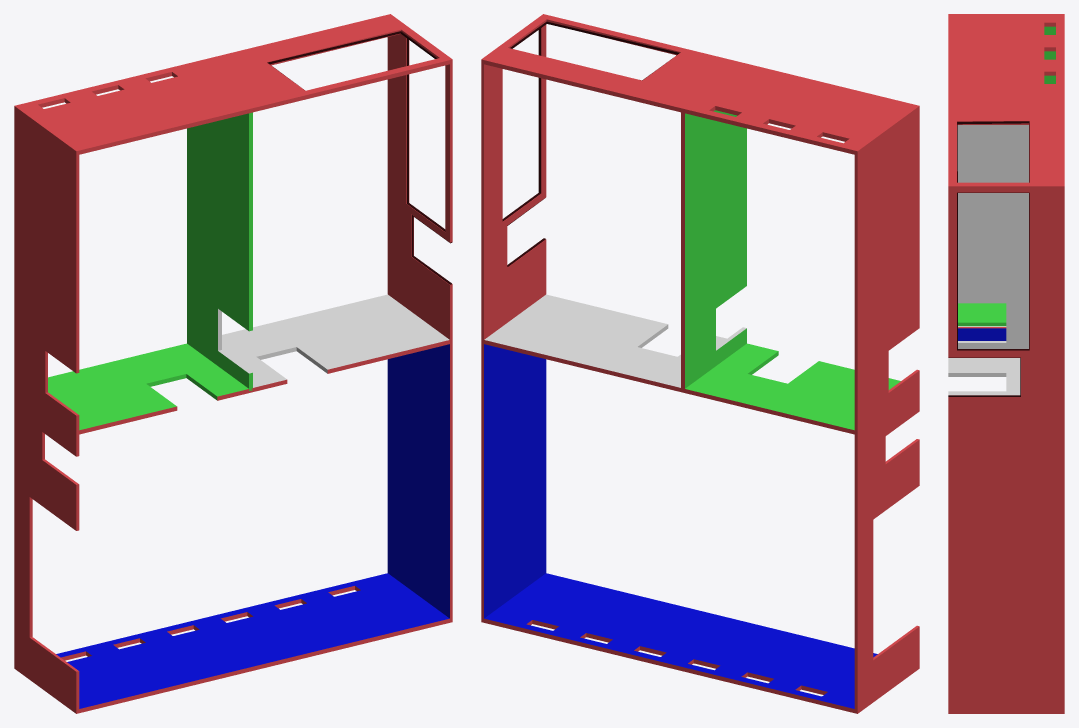
Rendered from gebaeude.fbx.
3 renders of one model, left to right at view 1: azimuth 30°, elevation 25°; view 2: azimuth 150°, elevation 25°; view 3: azimuth 270°, elevation 25°, orthographic. The views are drawn at different scales.
Parts seen in each view (by area): view 1: gebaude_aussen, Lager Innenwand, Innenwand Verkauf Werkstatt; view 2: gebaude_aussen, Lager Innenwand, Innenwand Verkauf Werkstatt; view 3: gebaude_aussen, Innenwand Verkauf Werkstatt, Lager Innenwand.
Part boxes in pixels (bbox=[...]): gebaude_aussen: bbox=[14, 14, 452, 713]; Lager Innenwand: bbox=[48, 294, 451, 434]; Innenwand Verkauf Werkstatt: bbox=[187, 112, 252, 390]; gebaude_aussen: bbox=[481, 14, 919, 713]; Lager Innenwand: bbox=[482, 294, 900, 434]; Innenwand Verkauf Werkstatt: bbox=[681, 110, 746, 390]; gebaude_aussen: bbox=[948, 14, 1064, 713]; Innenwand Verkauf Werkstatt: bbox=[957, 125, 1028, 348]; Lager Innenwand: bbox=[948, 303, 1020, 395].
Bounding box in the file's own units: 1400 × 2000 × 400.
